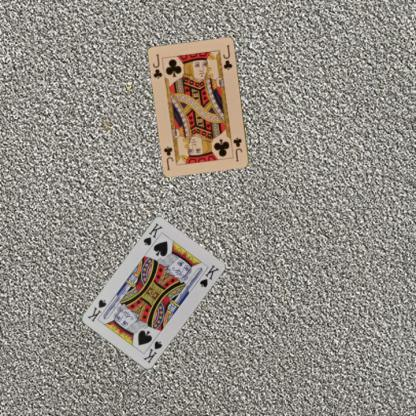Jc: (150, 51, 164, 80), (230, 135, 244, 163)
Ks: (140, 338, 164, 364), (141, 221, 163, 247)
